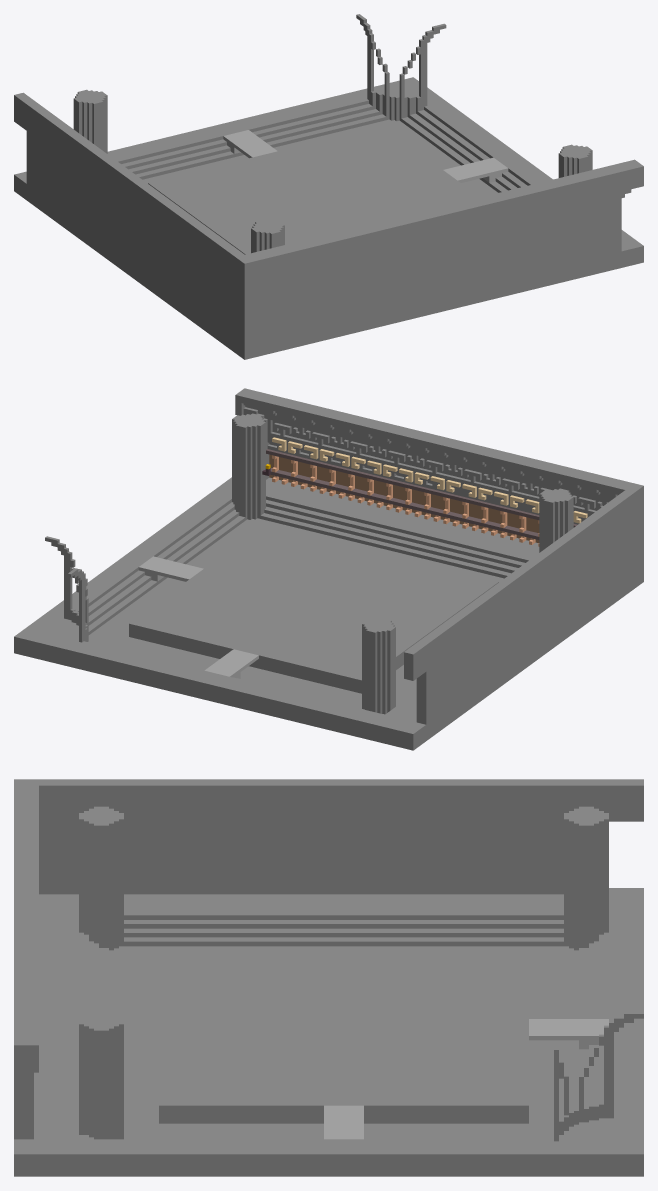
File: Room_01-0.obj
3 views of the same model, one above another, from view 1: azimuth 30°, elevation 25°; view 2: azimuth 150°, elevation 25°; view 3: azimuth 270°, elevation 25° (orthographic). The views are drawn at different scales.
Bounding box in the file's own units: 12.6 × 2.9 × 12.6.
1 material, 1 textured.
